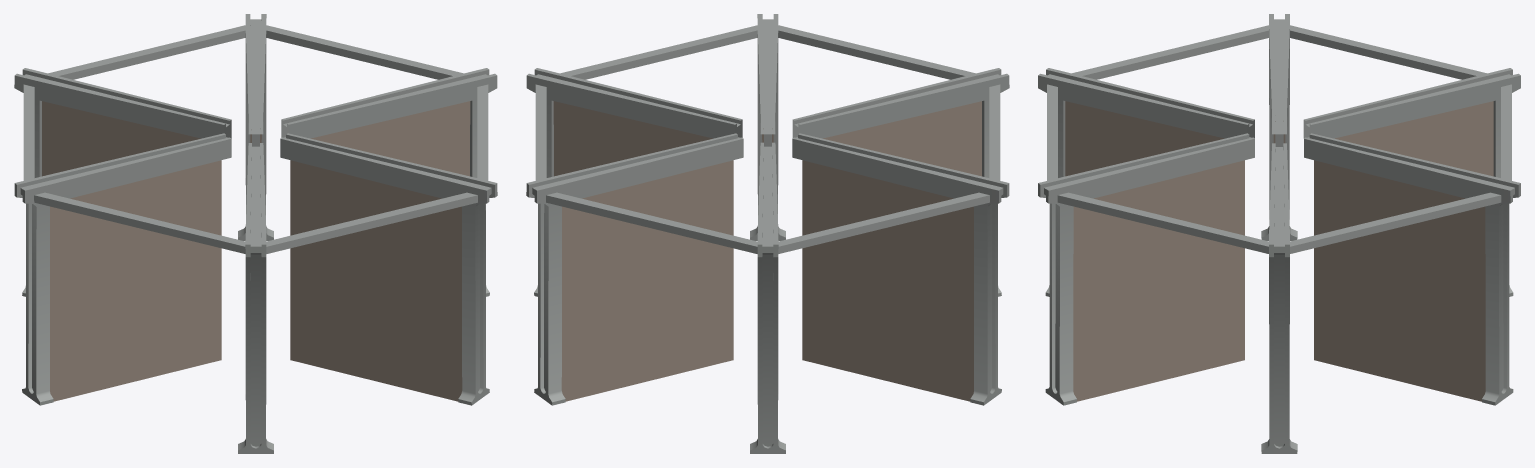
3 renders of one model, left to right at view 1: azimuth 30°, elevation 25°; view 2: azimuth 150°, elevation 25°; view 3: azimuth 270°, elevation 25°, orthographic.
Visible parts, largest first — view 1: G:\FFXIV-MapTools\exports\s1f3\bg\ffxiv\sea_s1\fld\s1f3\bgpa (×3); view 2: G:\FFXIV-MapTools\exports\s1f3\bg\ffxiv\sea_s1\fld\s1f3\bgpa (×3); view 3: G:\FFXIV-MapTools\exports\s1f3\bg\ffxiv\sea_s1\fld\s1f3\bgpa (×3).
Part boxes in pixels (x1,y1,x2,y2): G:\FFXIV-MapTools\exports\s1f3\bg\ffxiv\sea_s1\fld\s1f3\bgpa (×3): (14, 14, 497, 453); G:\FFXIV-MapTools\exports\s1f3\bg\ffxiv\sea_s1\fld\s1f3\bgpa (×3): (526, 14, 1009, 453); G:\FFXIV-MapTools\exports\s1f3\bg\ffxiv\sea_s1\fld\s1f3\bgpa (×3): (1038, 14, 1520, 453).
Bounding box in the file's own units: 11.5 × 5.13 × 10.18.
